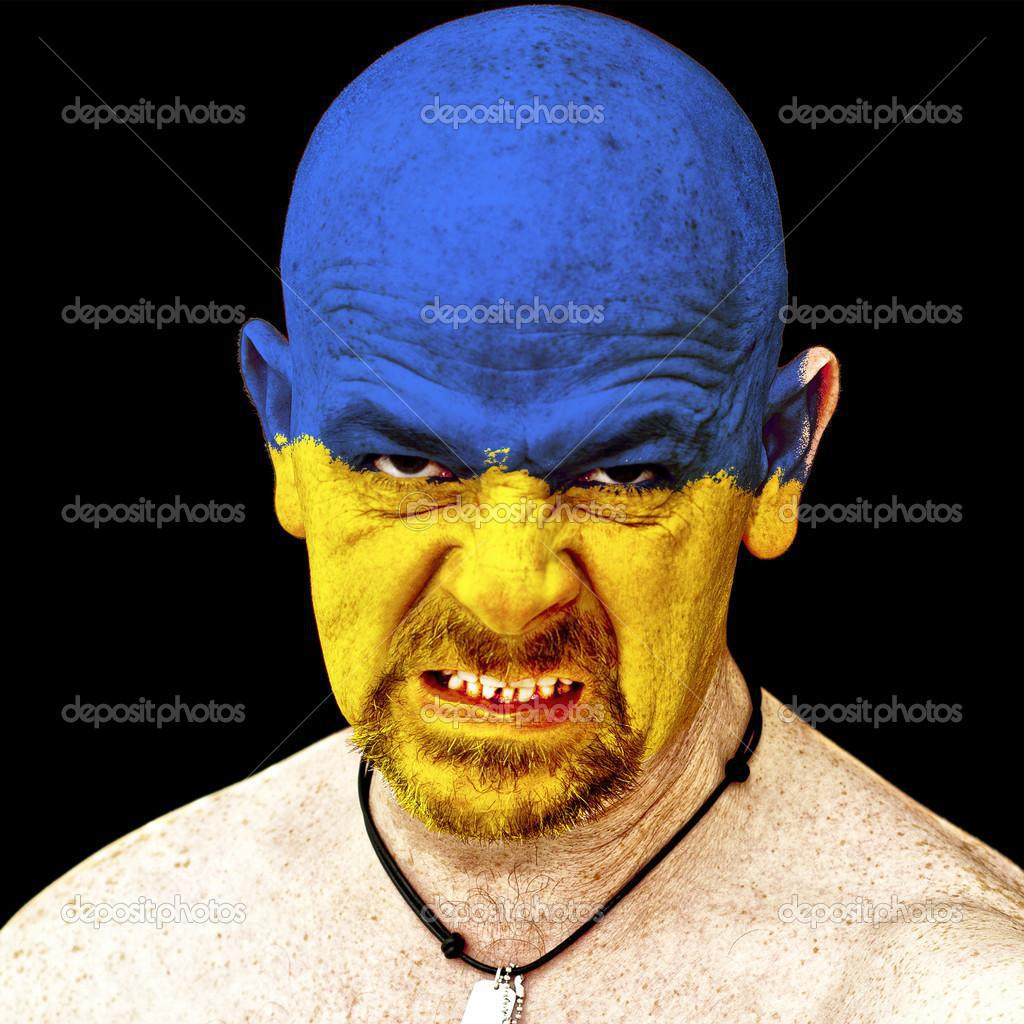face: (293, 185, 759, 837)
